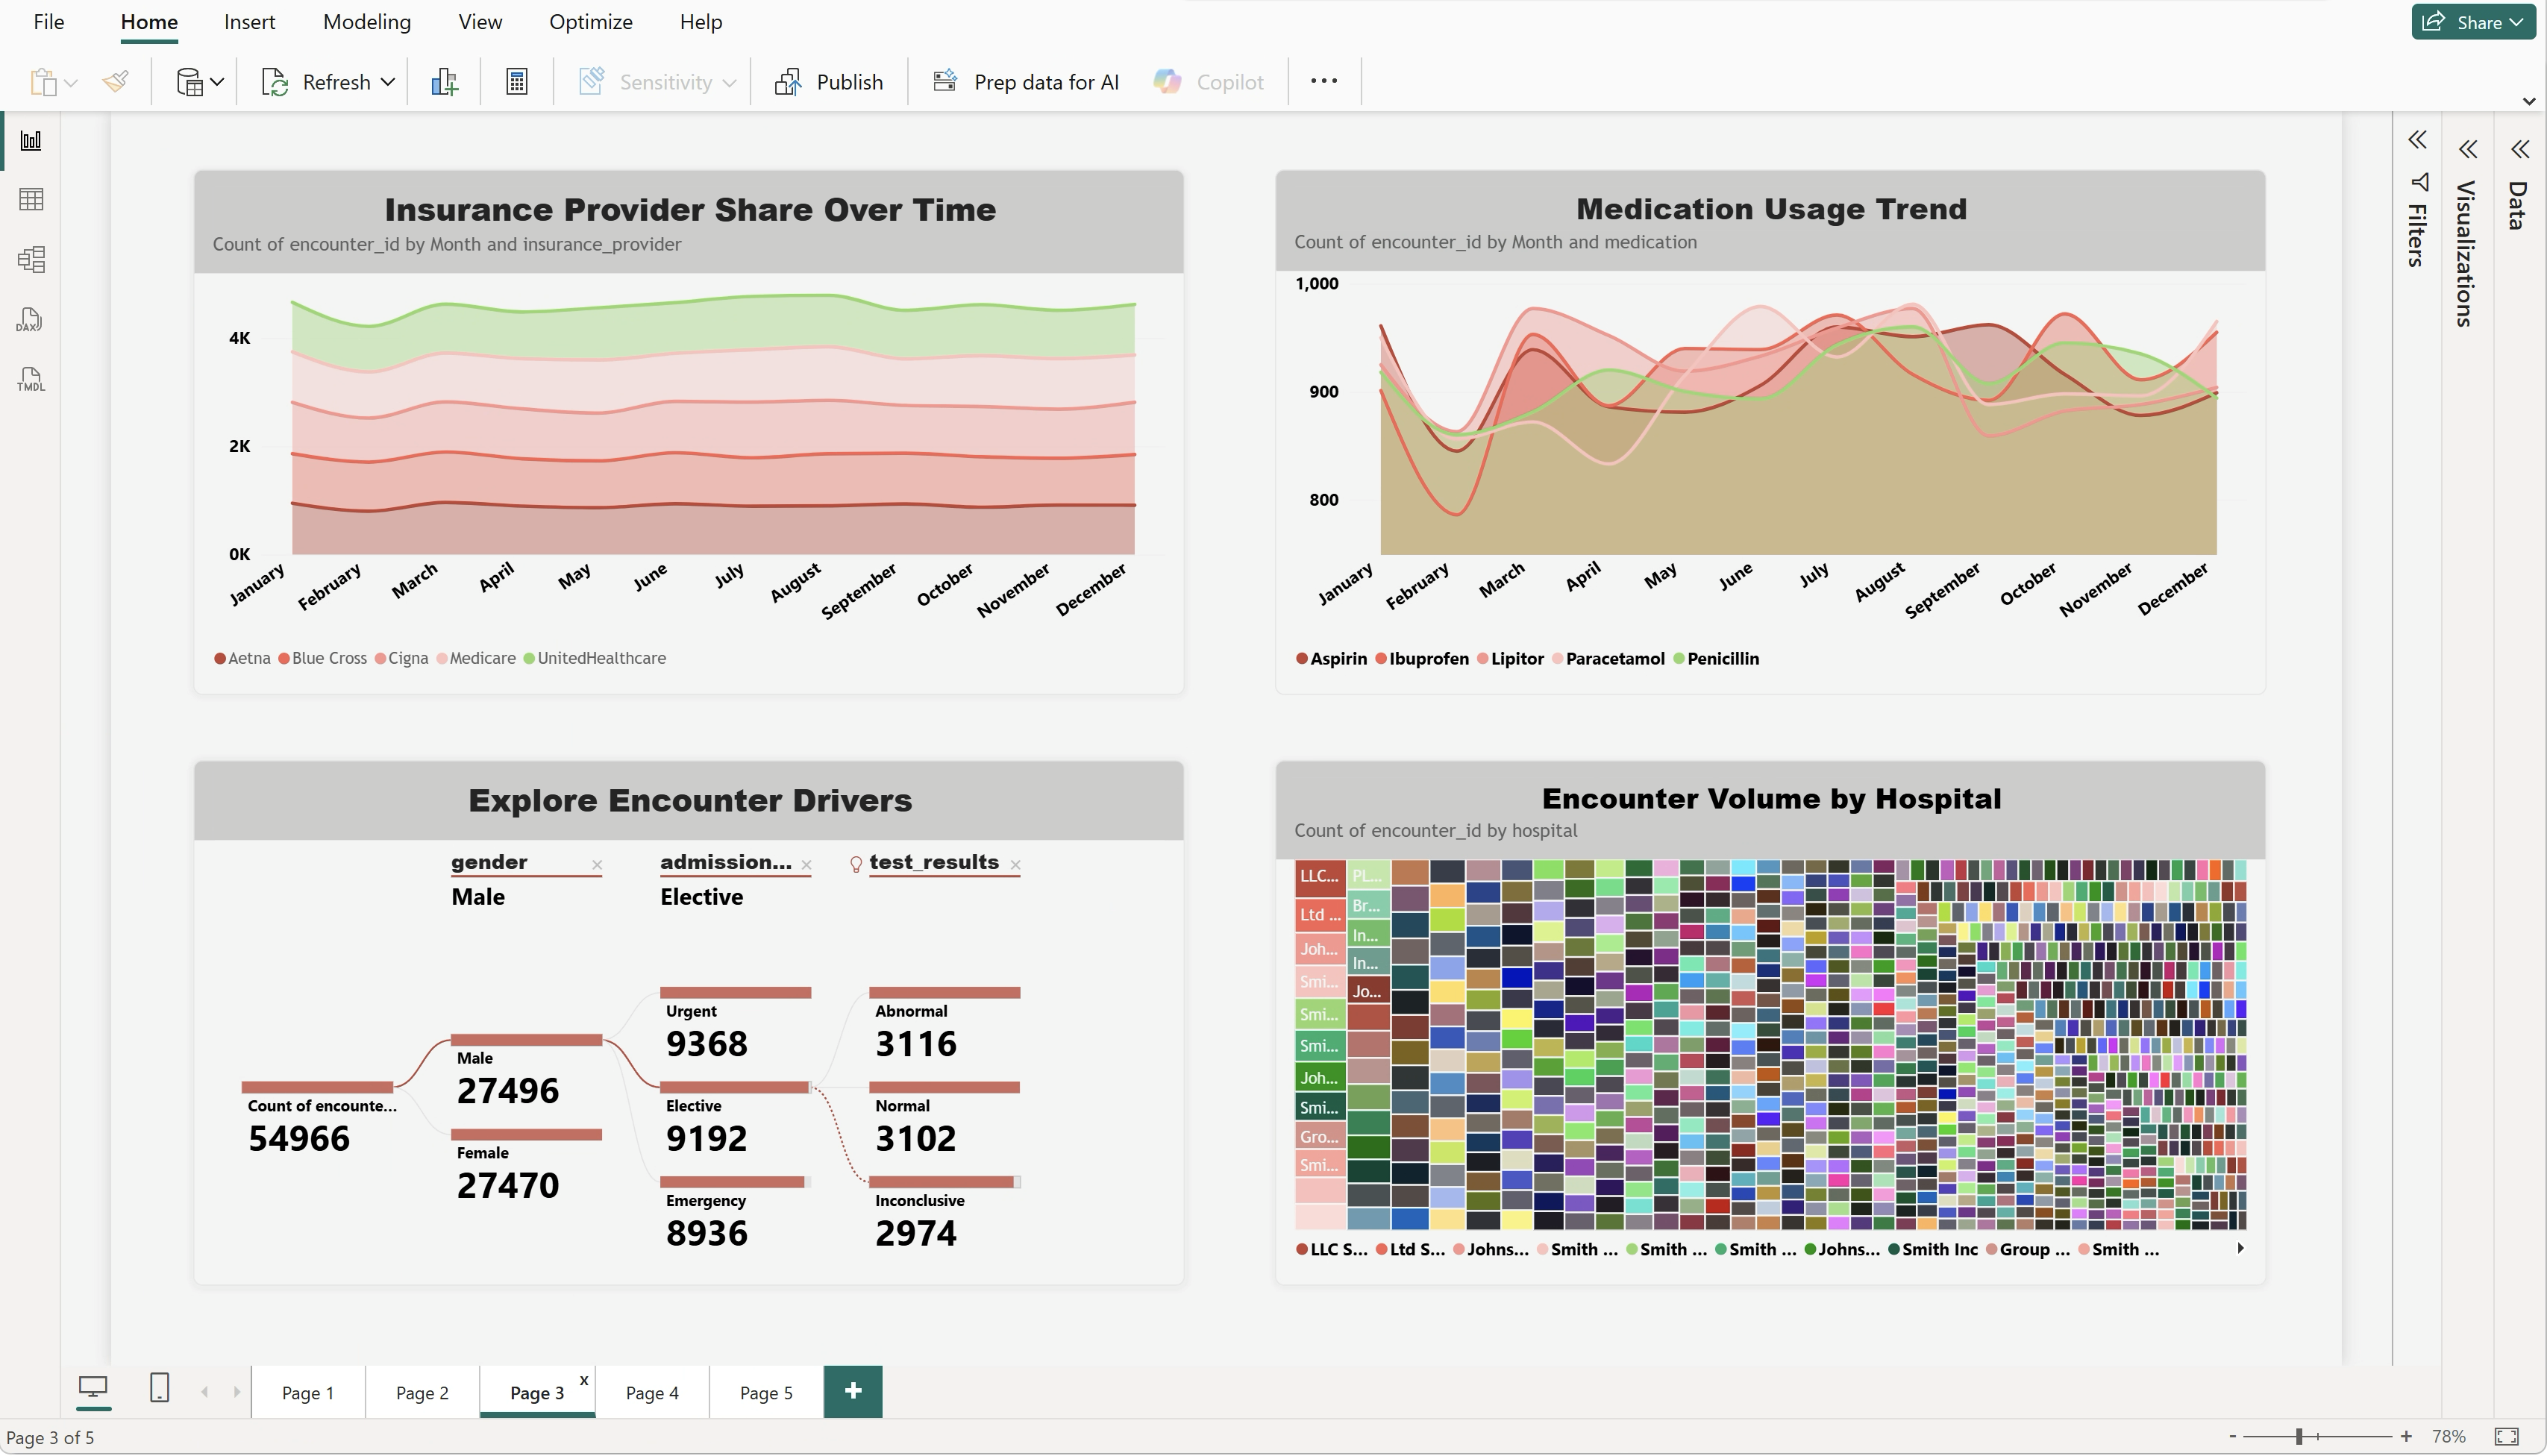

The dashboard page shown, as its layout file describes it:
{"tool":"powerbi","page":{"name":"Page 3","canvas":[1920,1080],"ordinal":2},"visuals":[{"type":"stackedAreaChart","title":"Insurance Provider Share Over Time","fields":{"Category":["encounters_rows.date_of_admission.Variation.Date Hierarchy.Month"],"Series":["encounters_rows.insurance_provider"],"Y":["CountNonNull(encounters_rows.encounter_id)"]},"box":[70.3,49.7,853.7,452.6],"z":1},{"type":"decompositionTreeVisual","title":"Explore Encounter Drivers","fields":{"Analyze":["CountNonNull(encounters_rows.encounter_id)"],"ExplainBy":["patients_rows.gender","encounters_rows.admission_type","encounters_rows.test_results"]},"box":[70.3,558.9,853.7,452.6],"z":2},{"type":"areaChart","title":"Medication Usage Trend","fields":{"Category":["encounters_rows.date_of_admission.Variation.Date Hierarchy.Month"],"Series":["encounters_rows.medication"],"Y":["CountNonNull(encounters_rows.encounter_id)"]},"box":[1001.1,49.7,853.7,452.6],"z":4},{"type":"treemap","title":"Encounter Volume by Hospital","fields":{"Group":["encounters_rows.hospital"],"Values":["CountNonNull(encounters_rows.encounter_id)"]},"box":[1001.1,558.9,853.7,452.6],"z":5}]}

Visuals, with their boxes on the page's 1920x1080 design canvas (x1, y1, x2, y2). These are canvas units, not pixel positions in the 2547x1456 screenshot, which may show the page scaled, cropped or inside an application window:
"Insurance Provider Share Over Time" stackedAreaChart: l=70, t=50, r=924, b=502
"Explore Encounter Drivers" decompositionTreeVisual: l=70, t=559, r=924, b=1012
"Medication Usage Trend" areaChart: l=1001, t=50, r=1855, b=502
"Encounter Volume by Hospital" treemap: l=1001, t=559, r=1855, b=1012
